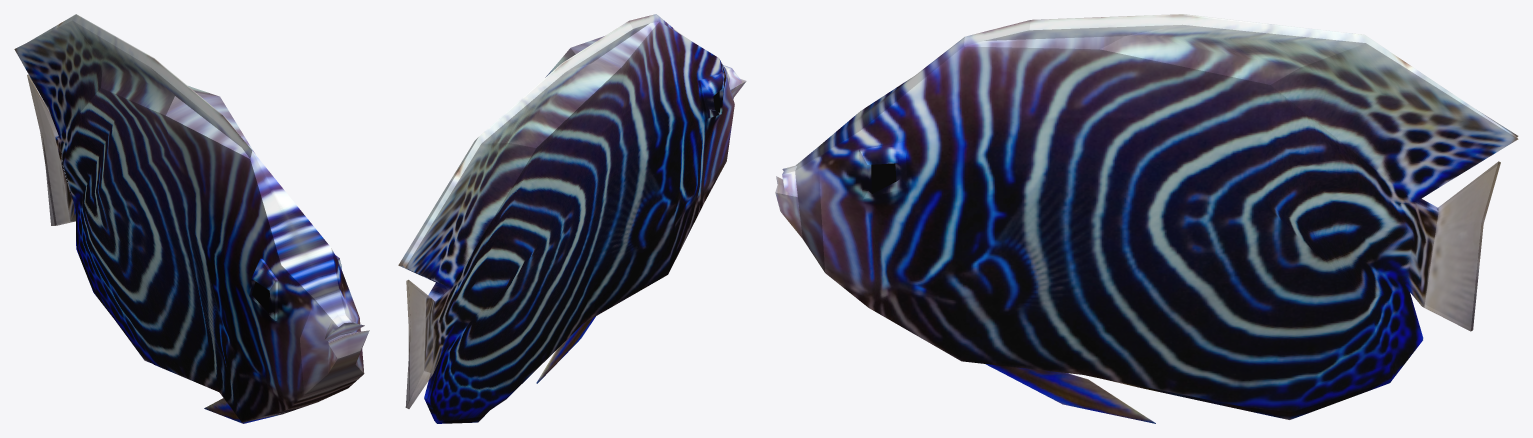
The model's file is prettyfish.fbx.
3 views of the same model, side by side, from view 1: azimuth 30°, elevation 25°; view 2: azimuth 150°, elevation 25°; view 3: azimuth 270°, elevation 25° (orthographic). The views are drawn at different scales.
Parts seen in each view (by area): view 1: tropicalFishMaya2008:prettyfish1; view 2: tropicalFishMaya2008:prettyfish1; view 3: tropicalFishMaya2008:prettyfish1.
Part boxes in pixels (box(x1,y1,x2,y2)): tropicalFishMaya2008:prettyfish1: box(14, 14, 369, 423); tropicalFishMaya2008:prettyfish1: box(398, 14, 746, 423); tropicalFishMaya2008:prettyfish1: box(775, 14, 1518, 423).
Bounding box in the file's own units: 3.85 × 13.11 × 22.68.
